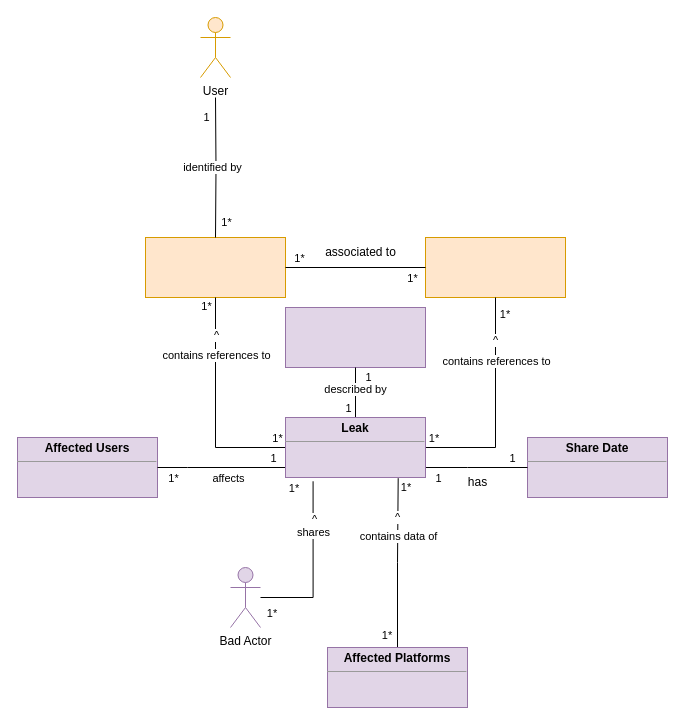
This 685x725 diagram has some shape labels left out. The centre of each missing label's shape, as x and y in pixels:
"Context" goes at (x=355, y=337).
"Email" goes at (x=215, y=267).
"Password" goes at (x=495, y=267).
